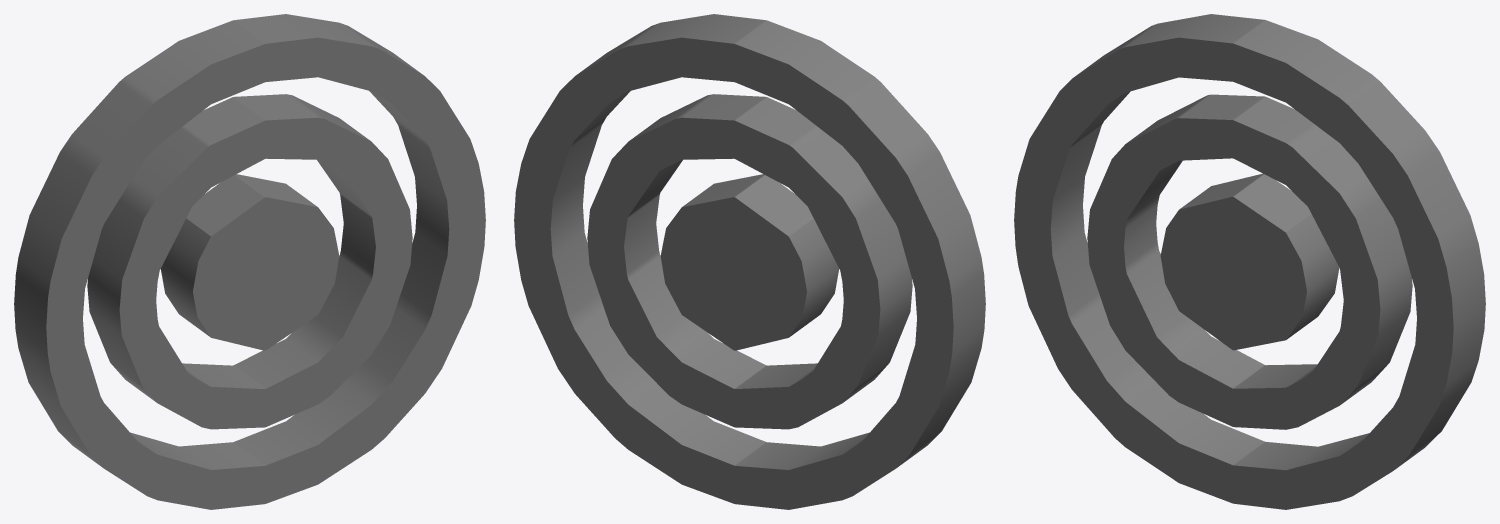
The model's file is fa-bullseye.obj.
The picture shows the model from 3 angles, left to right: view 1: azimuth 30°, elevation 25°; view 2: azimuth 150°, elevation 25°; view 3: azimuth 330°, elevation 25°; orthographic projection.
Bounding box in the file's own units: 0.907 × 0.907 × 0.1152.
Materials: 1 (1 with a texture image).
